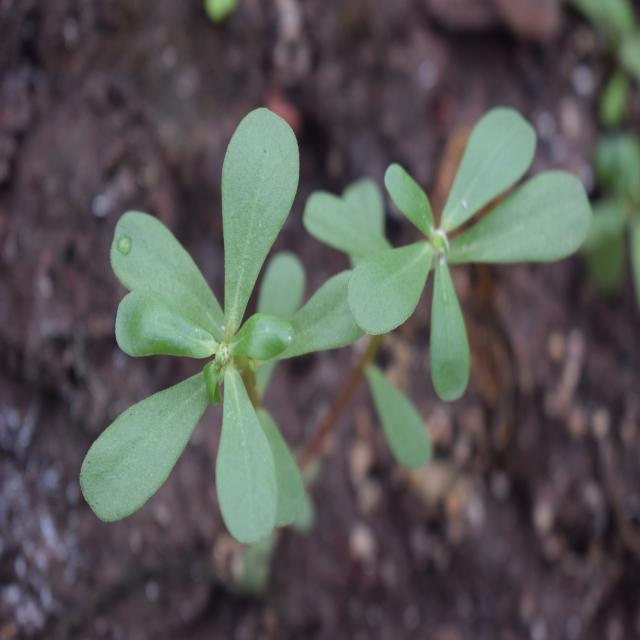purslane: (74, 88, 605, 550)
